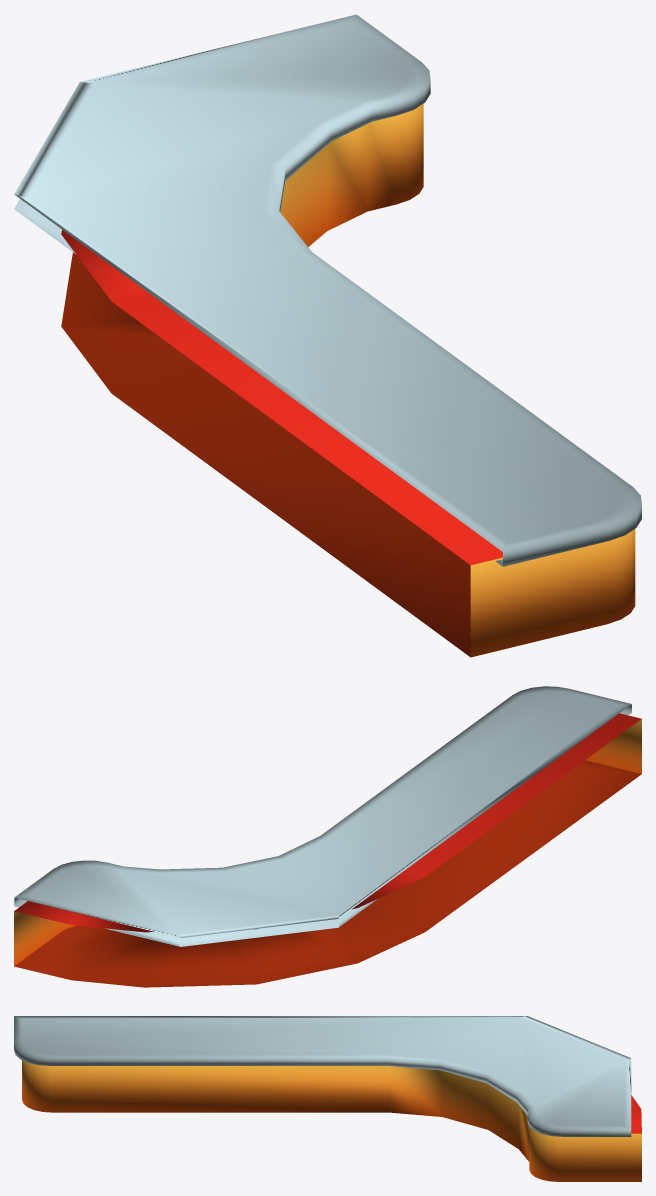
File: hotfoodcounter.fbx
The picture shows the model from 3 angles, top to bottom: view 1: azimuth 30°, elevation 25°; view 2: azimuth 150°, elevation 25°; view 3: azimuth 270°, elevation 25°; orthographic projection. The views are drawn at different scales.
Parts seen in each view (by area): view 1: Cube__4_.001; view 2: Cube__4_.001; view 3: Cube__4_.001.
Boxes of the visible parts, x1,y1,x2,y2 form: Cube__4_.001: (14, 14, 641, 657); Cube__4_.001: (14, 686, 641, 987); Cube__4_.001: (14, 1016, 641, 1181).
Size of the model in its own units: 13.15 by 2.84 by 29.24.
